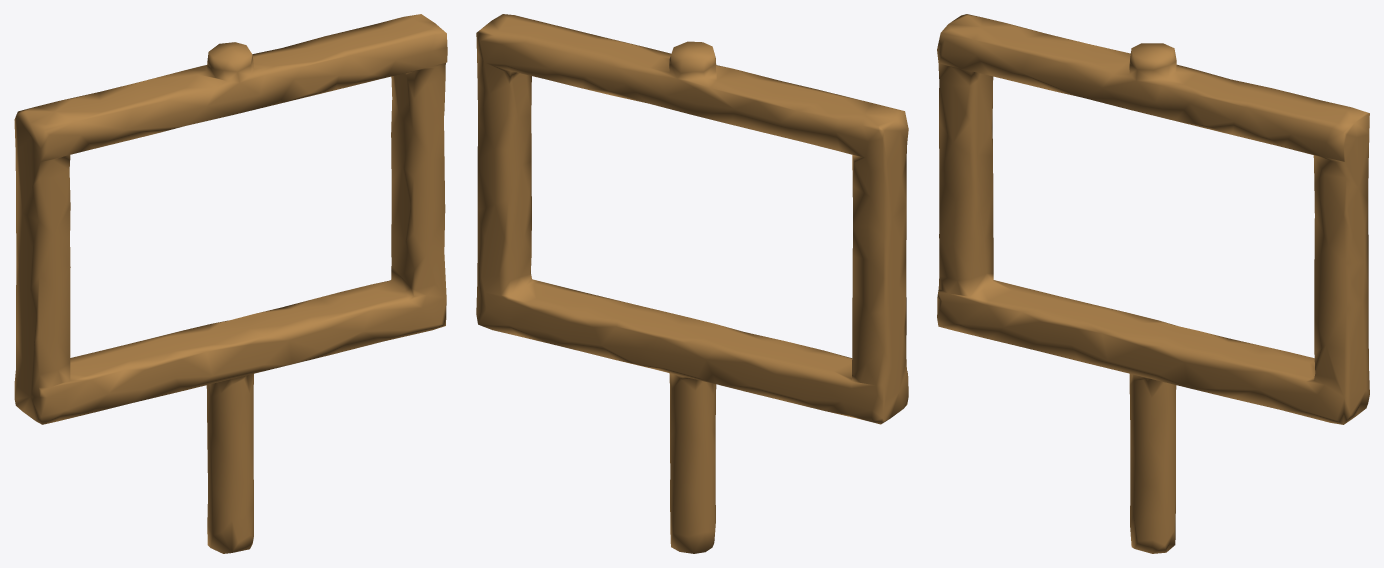
The model's file is WoodenSignPost.fbx.
3 renders of one model, left to right at view 1: azimuth 30°, elevation 25°; view 2: azimuth 150°, elevation 25°; view 3: azimuth 330°, elevation 25°, orthographic.
Parts seen in each view (by area): view 1: input; view 2: input; view 3: input.
Boxes of the visible parts, x1=… form: input: x1=14, y1=14, x2=447, y2=553; input: x1=476, y1=14, x2=908, y2=553; input: x1=937, y1=14, x2=1369, y2=553.
Size of the model in its own units: 86.05 by 99.94 by 9.96.
Materials: 1 (1 with a texture image).
